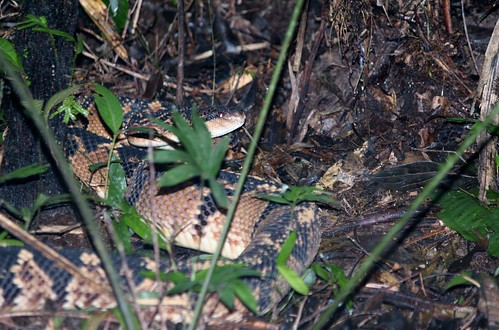animal: (1, 66, 317, 330)
vegetation: (1, 1, 498, 330)
